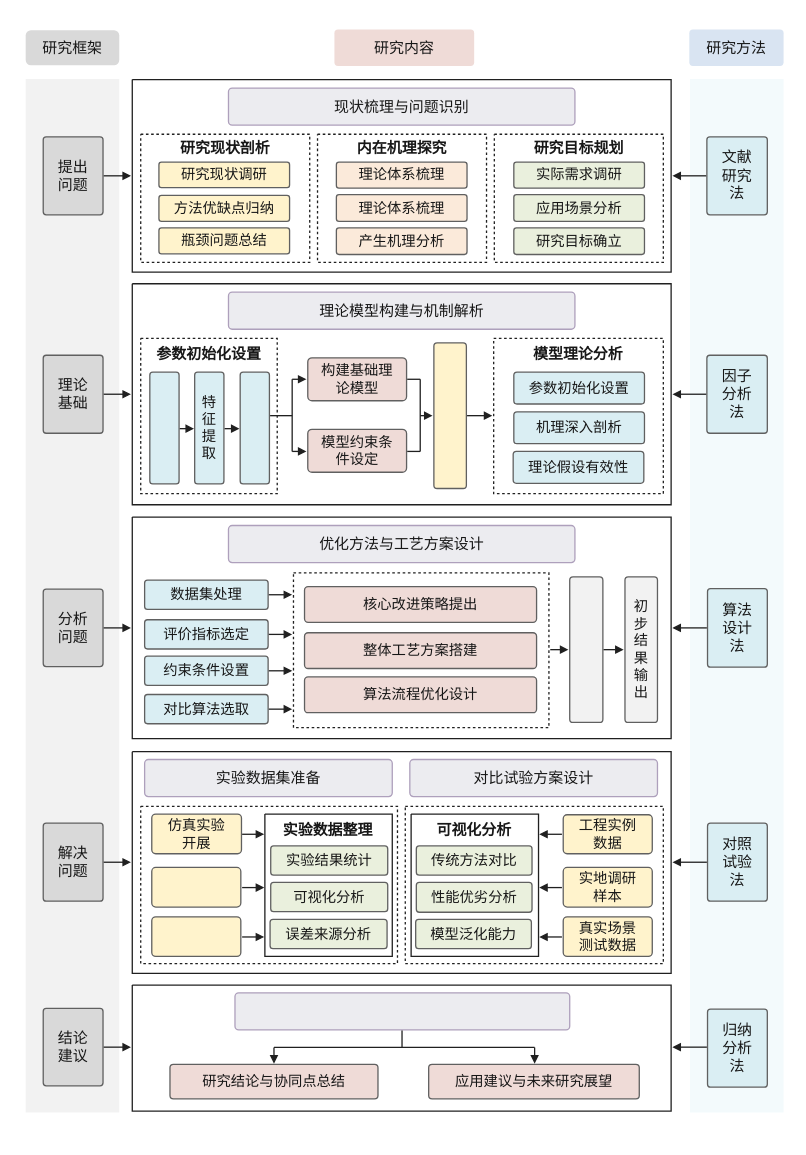
Some shapes in this 806 by 1155 pixel diagram are drawn without their labels. The centre of each missing label's shape, as x and y in pixels:
"关 键 因 子 确 定" goes at point 254,427.
"多组重复 测试" goes at point 196,936.
"数 据 筛 选" goes at point 164,427.
"方 案 仿 真 验 证" goes at point 586,649.
"模 型 合 理 性 论 证" goes at point 450,415.
"消融对照 试验" goes at point 196,886.
"研究结论与应用展望" goes at point 402,1011.
